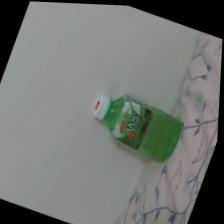plastic: (94, 96, 181, 160)
